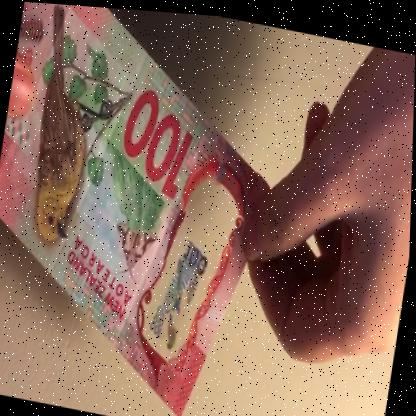100B: (147, 204, 220, 357)
